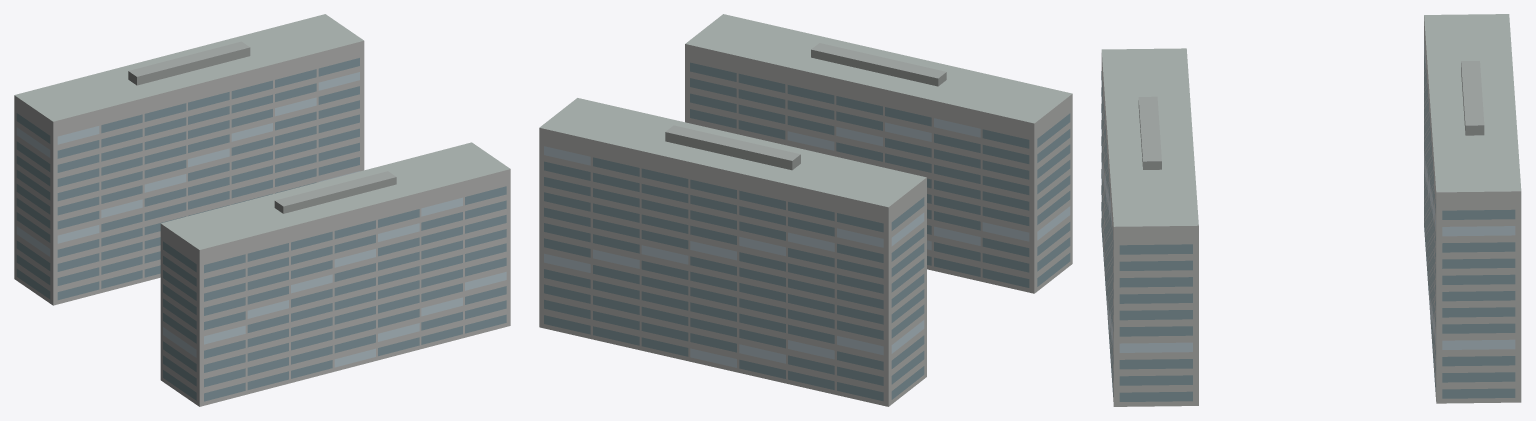
The model's file is apt-a15722201.glb.
3 views of the same model, side by side, from view 1: azimuth 30°, elevation 25°; view 2: azimuth 150°, elevation 25°; view 3: azimuth 270°, elevation 25° (orthographic). The views are drawn at different scales.
Parts seen in each view (by area): view 1: apt-a15722201; view 2: apt-a15722201; view 3: apt-a15722201.
Part boxes in pixels (<box>): apt-a15722201: <box>14,14,510,406</box>; apt-a15722201: <box>539,14,1072,406</box>; apt-a15722201: <box>1101,14,1521,406</box>.
Bounding box in the file's own units: 59.98 × 34 × 58.53.
